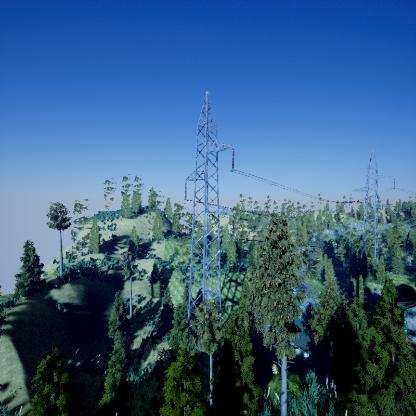tower: (180, 88, 237, 342), (350, 142, 397, 259)
